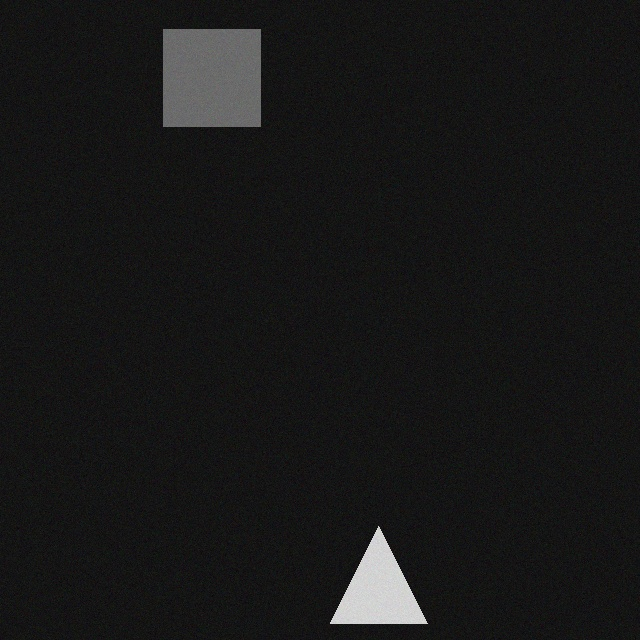square: (153, 26, 250, 123)
triangle: (320, 523, 417, 620)
